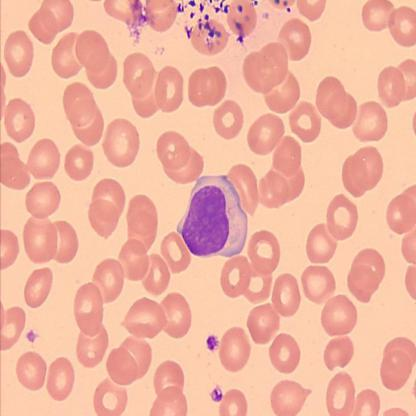Lymphocyte: (178, 173, 248, 258)
